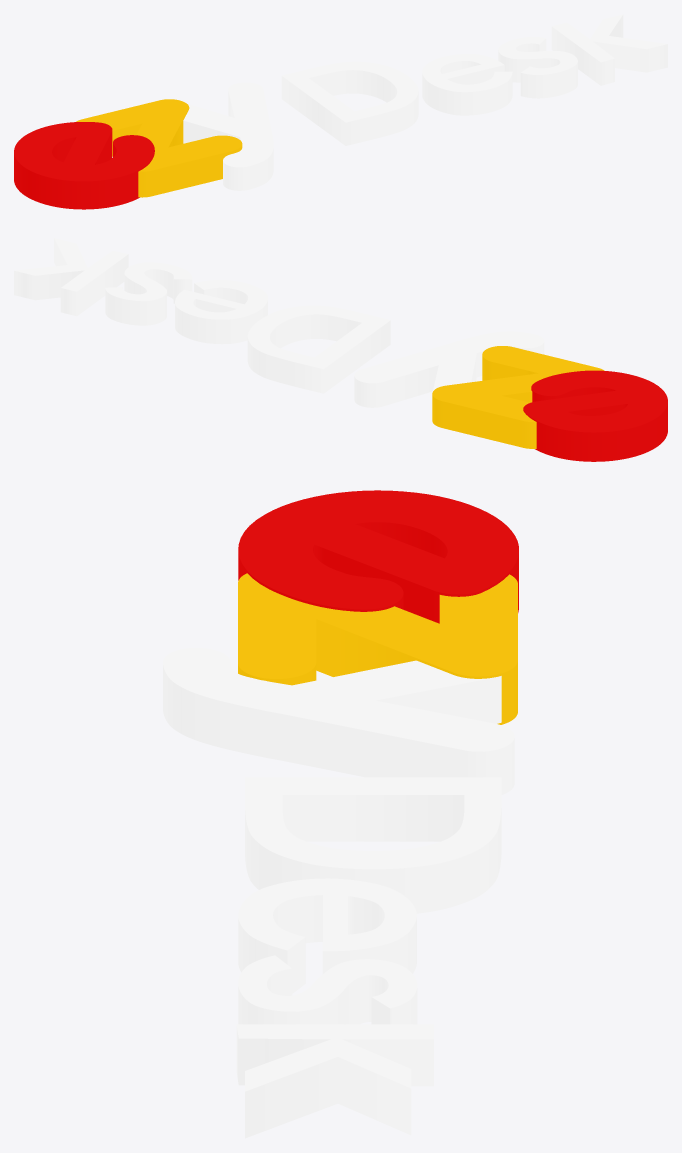
File: ezydesk.glb
The picture shows the model from 3 angles, top to bottom: view 1: azimuth 30°, elevation 25°; view 2: azimuth 150°, elevation 25°; view 3: azimuth 270°, elevation 25°; orthographic projection. The views are drawn at different scales.
Visible parts, largest first — view 1: path1754, path98932-8, path98936, path98938; view 2: path1754, path98932-8, path98936, path98938; view 3: path1754, path98938, path98932-8, path98936.
Part boxes in pixels (x1,y1,x2,y2): path1754: [281, 14, 667, 145]; path98932-8: [14, 122, 154, 209]; path98936: [76, 99, 242, 197]; path98938: [183, 82, 273, 190]; path1754: [14, 238, 390, 393]; path98932-8: [523, 370, 667, 461]; path98936: [432, 346, 604, 448]; path98938: [354, 331, 544, 407]; path1754: [236, 777, 501, 1138]; path98938: [163, 648, 514, 794]; path98932-8: [238, 490, 518, 623]; path98936: [238, 573, 517, 724].
Size of the model in its own units: 2.18 by 0.0958 by 0.5507.
